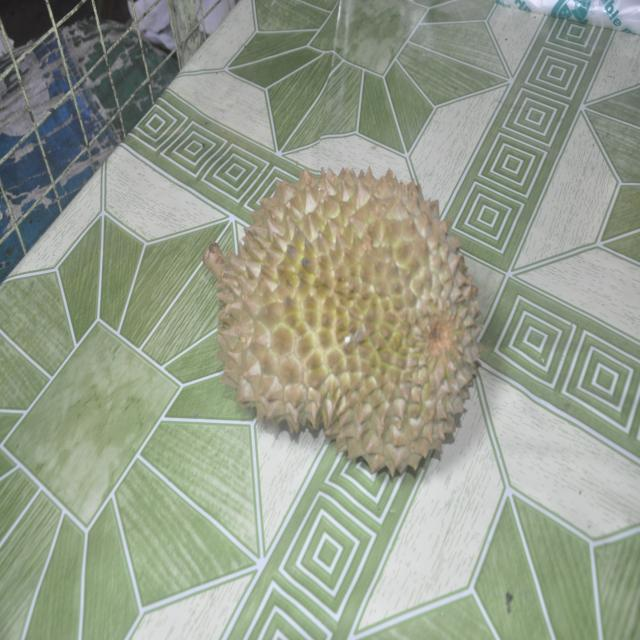mature: (181, 140, 498, 495)
